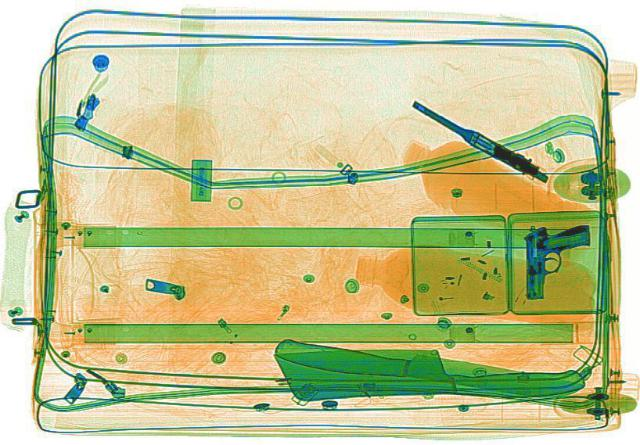Gun: (401, 98, 557, 183), (522, 222, 590, 298)
Knife: (270, 334, 582, 404), (270, 334, 586, 398)
